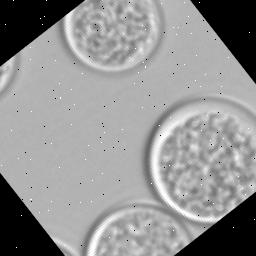picoshell: (144, 91, 256, 224), (59, 0, 165, 75), (82, 196, 193, 256), (0, 51, 20, 99)
